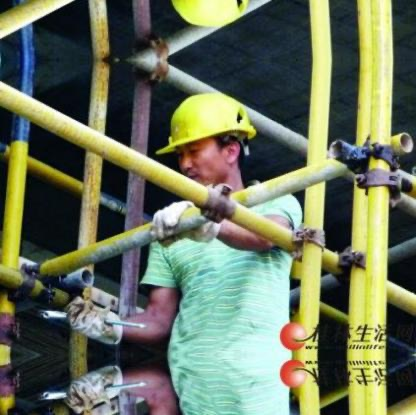Safety Helmet: (149, 85, 259, 202)
